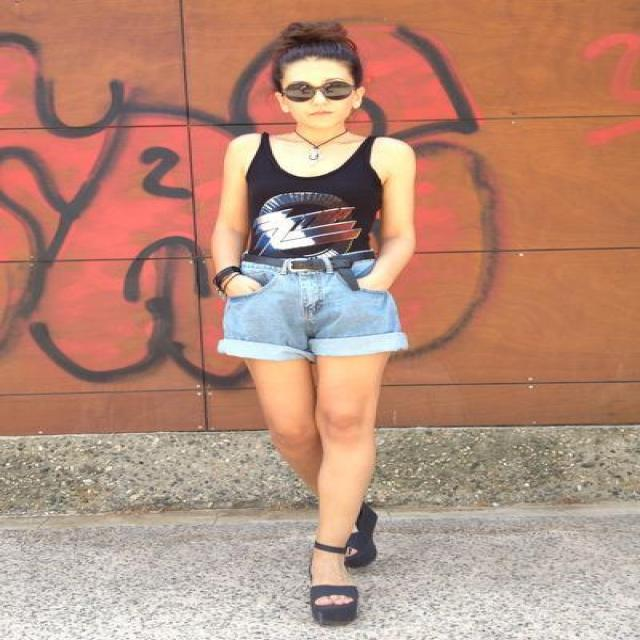shirt: (227, 141, 386, 268)
shoe: (306, 501, 376, 626)
shorts: (218, 266, 406, 552)
sunglass: (227, 79, 344, 293)
